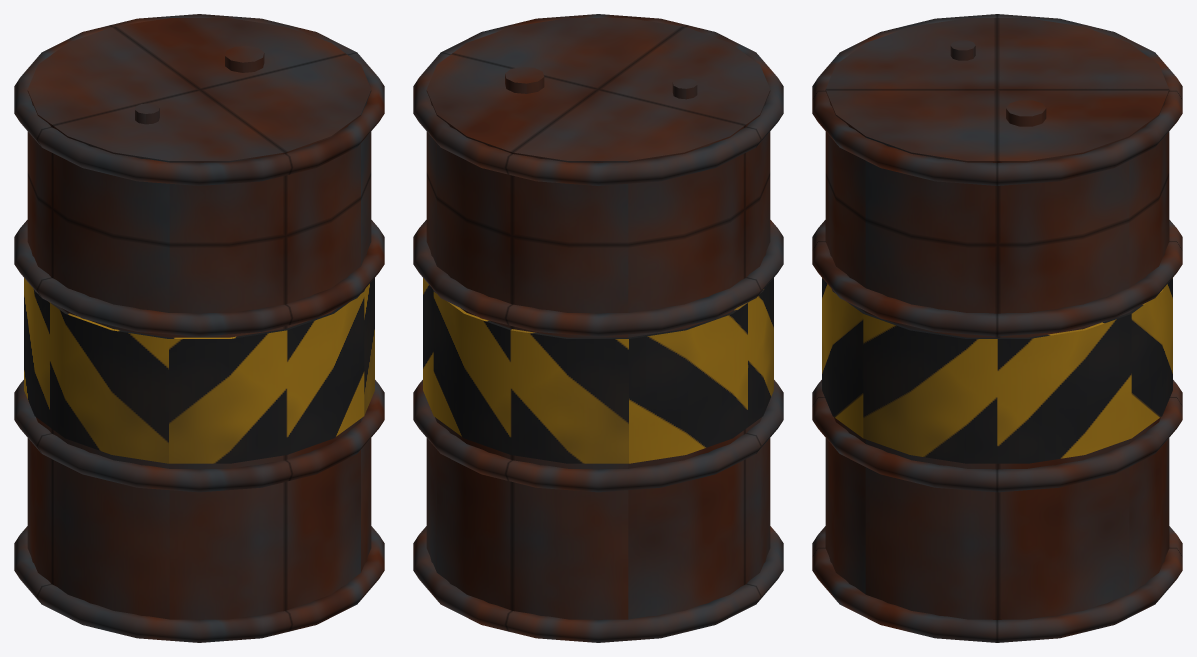
The model's file is Prop_HazardBarrel.fbx.
3 renders of one model, left to right at view 1: azimuth 30°, elevation 25°; view 2: azimuth 150°, elevation 25°; view 3: azimuth 270°, elevation 25°, orthographic.
Visible parts, largest first — view 1: Prop_HazardBarrel; view 2: Prop_HazardBarrel; view 3: Prop_HazardBarrel.
Part boxes in pixels (left/top/right/bottom): Prop_HazardBarrel: left=14, top=14, right=384, bottom=642; Prop_HazardBarrel: left=413, top=14, right=783, bottom=642; Prop_HazardBarrel: left=812, top=14, right=1182, bottom=642.
Size of the model in its own units: 0.656 by 0.94 by 0.646.
